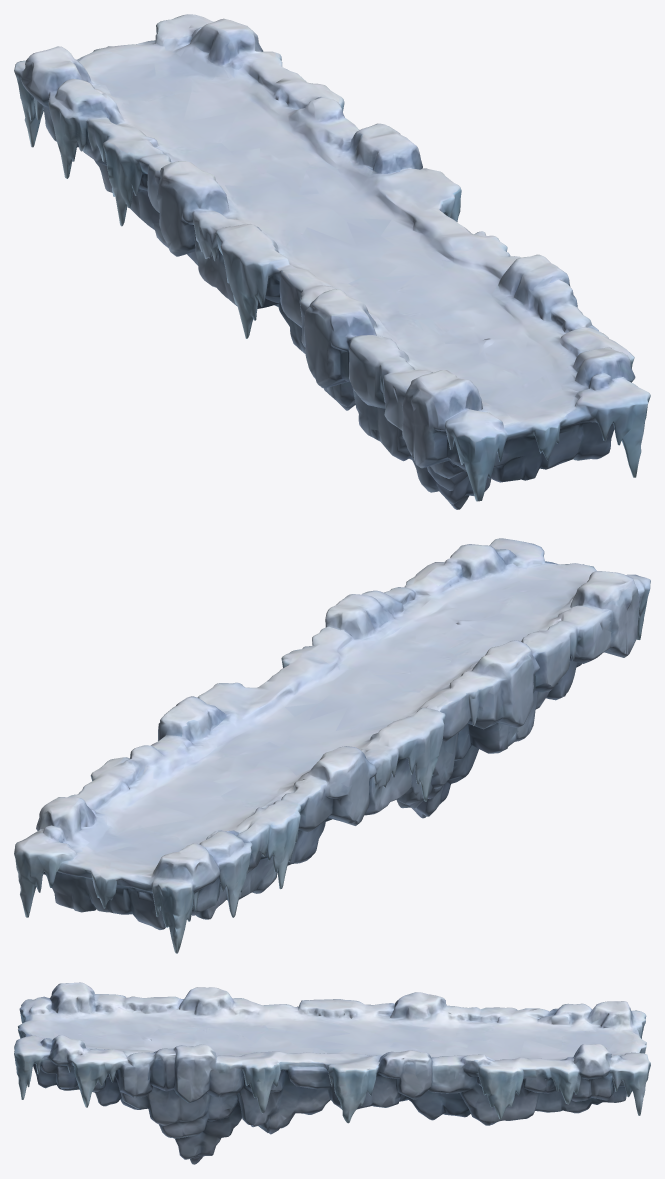
The model's file is R2_Island_Bridge.fbx.
3 views of the same model, one above another, from view 1: azimuth 30°, elevation 25°; view 2: azimuth 150°, elevation 25°; view 3: azimuth 270°, elevation 25° (orthographic). The views are drawn at different scales.
Visible parts, largest first — view 1: R2_Island_Bridge; view 2: R2_Island_Bridge; view 3: R2_Island_Bridge.
Boxes of the visible parts, x1,y1,x2,y2 form: R2_Island_Bridge: [14, 14, 650, 509]; R2_Island_Bridge: [14, 538, 650, 953]; R2_Island_Bridge: [14, 982, 650, 1164].
Bounding box in the file's own units: 420 × 350 × 1400.
1 material, 1 textured.
